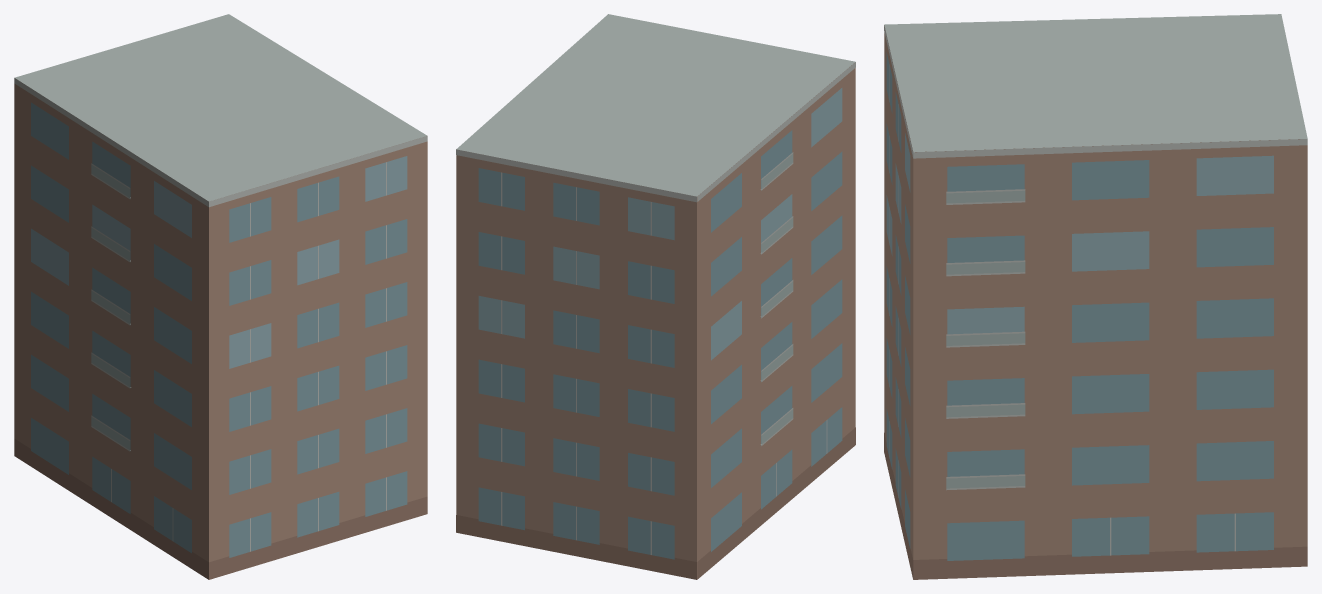
The model's file is survey-upis-32941222.glb.
3 views of the same model, side by side, from view 1: azimuth 30°, elevation 25°; view 2: azimuth 150°, elevation 25°; view 3: azimuth 270°, elevation 25° (orthographic). The views are drawn at different scales.
Parts seen in each view (by area): view 1: survey-upis-32941222.tmp; view 2: survey-upis-32941222.tmp; view 3: survey-upis-32941222.tmp.
Part boxes in pixels (left/top/right/bottom): survey-upis-32941222.tmp: left=14, top=14, right=427, bottom=579; survey-upis-32941222.tmp: left=456, top=14, right=855, bottom=579; survey-upis-32941222.tmp: left=884, top=14, right=1307, bottom=579.
Bounding box in the file's own units: 11.3 × 16.3 × 14.64.
